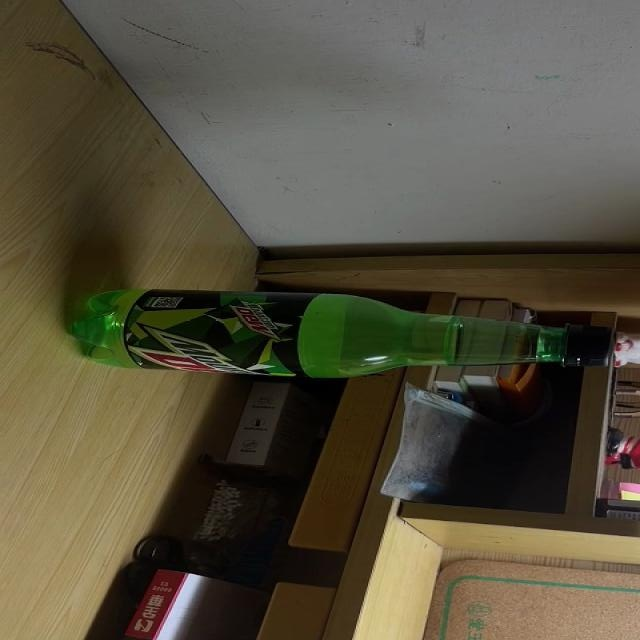Mountain-Dew: (69, 289, 615, 378)
